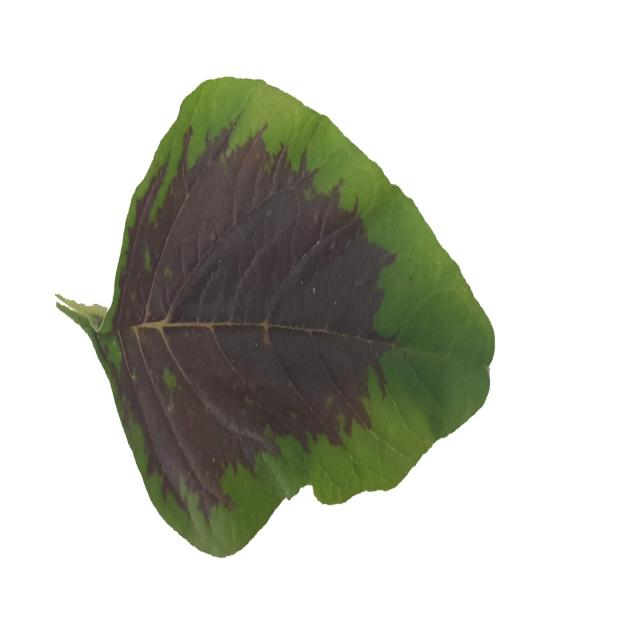Medicinal-Arive Dantu: (55, 74, 494, 560)
